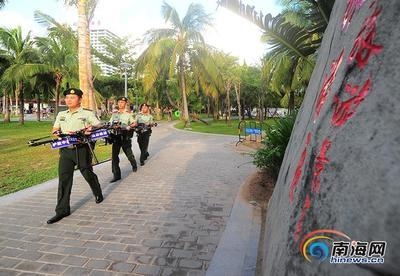up: (45, 86, 106, 230), (109, 93, 139, 182), (134, 101, 157, 165)
